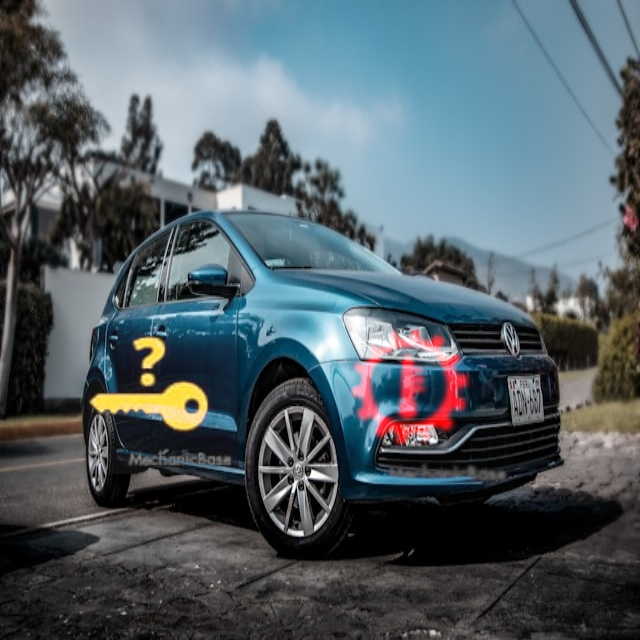symbol: (307, 284, 514, 491), (59, 295, 238, 474)
